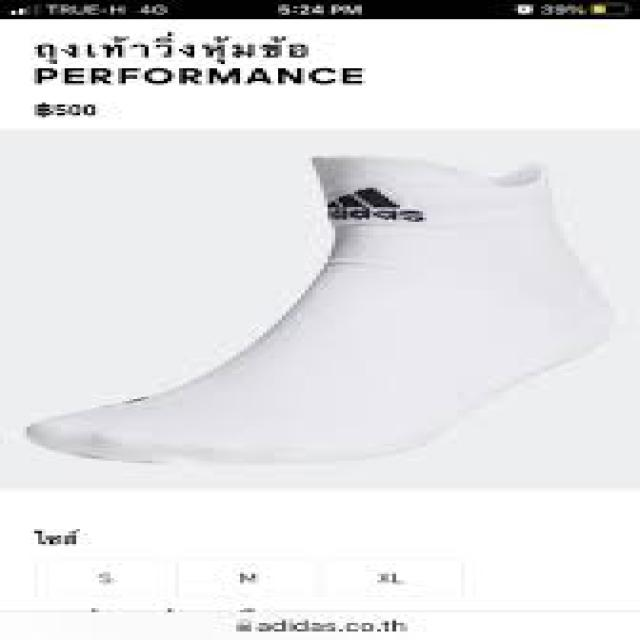sock: (23, 152, 613, 465)
